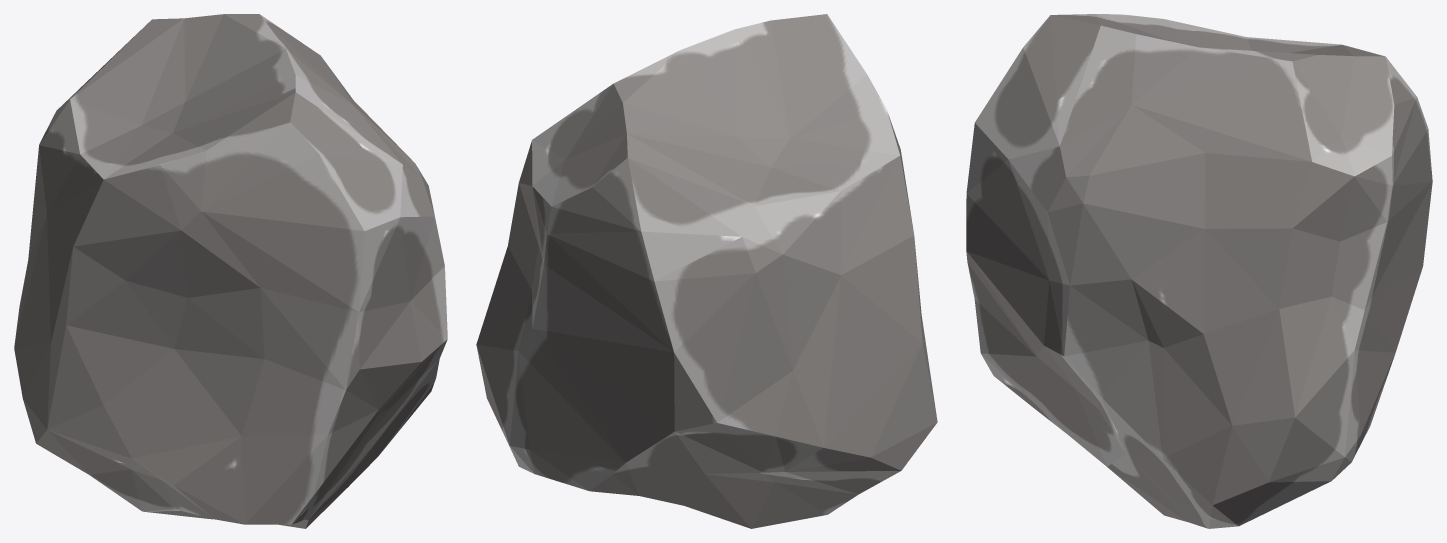
The model's file is P_Rock_1.fbx.
The picture shows the model from 3 angles, left to right: view 1: azimuth 30°, elevation 25°; view 2: azimuth 150°, elevation 25°; view 3: azimuth 270°, elevation 25°; orthographic projection.
Visible parts, largest first — view 1: Cube; view 2: Cube; view 3: Cube.
Part boxes in pixels (x1,y1,x2,y2): Cube: (14,14,447,528); Cube: (476,14,937,528); Cube: (966,14,1432,528).
Bounding box in the file's own units: 90 × 100 × 90.
